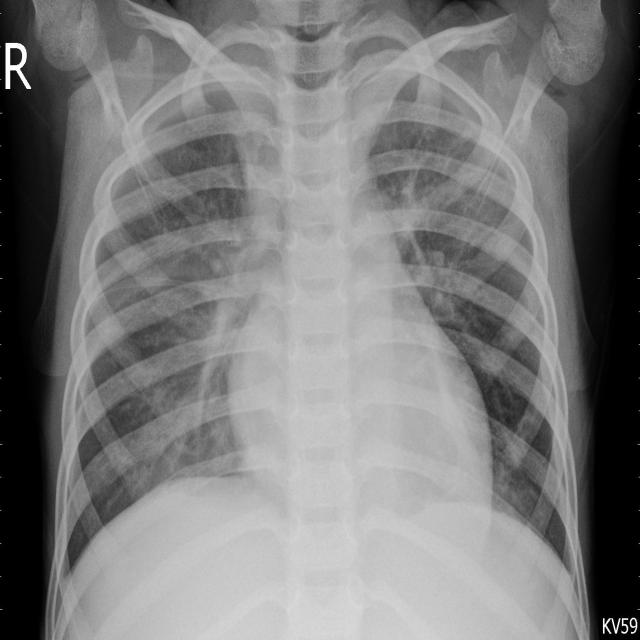low-pneumonia: (385, 118, 505, 347), (184, 110, 293, 292), (157, 254, 247, 465)
